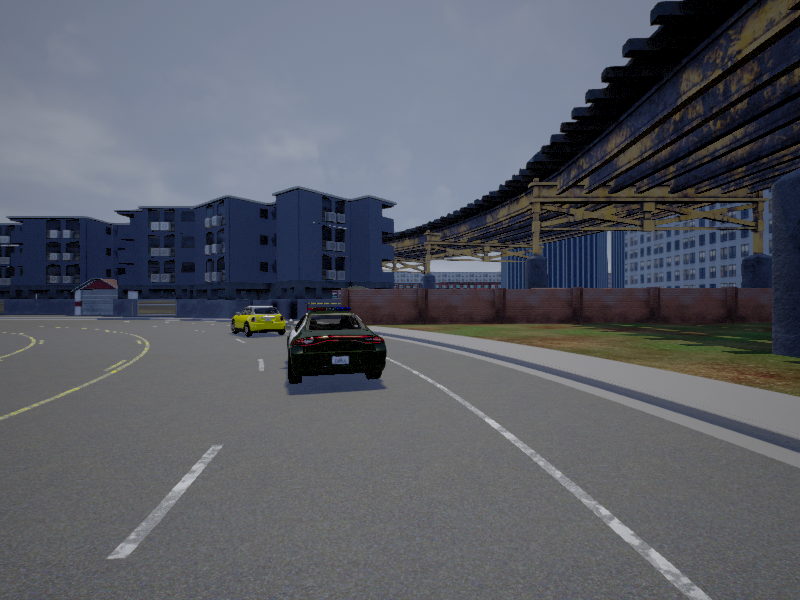Benign: (286, 306, 386, 384), (230, 304, 288, 337)
